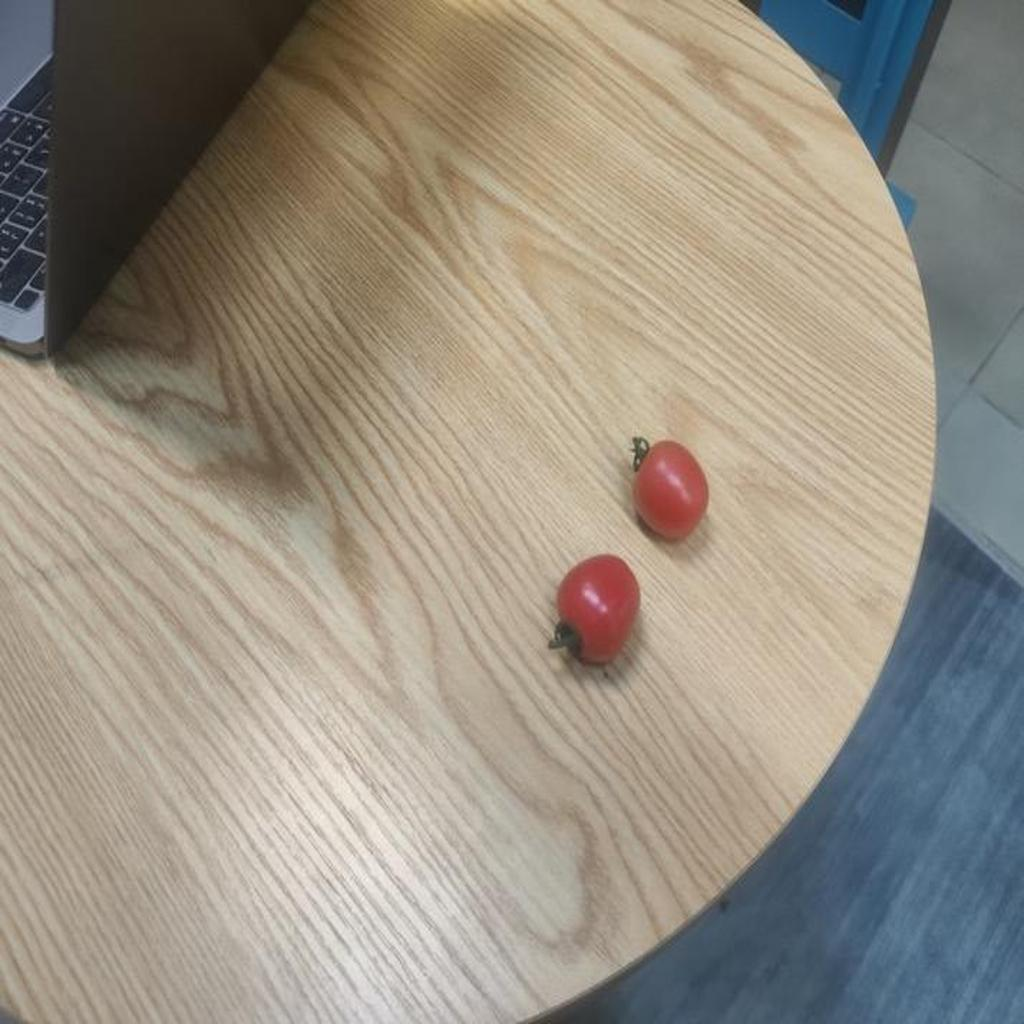tomato: (556, 549, 641, 666), (629, 441, 712, 544)
